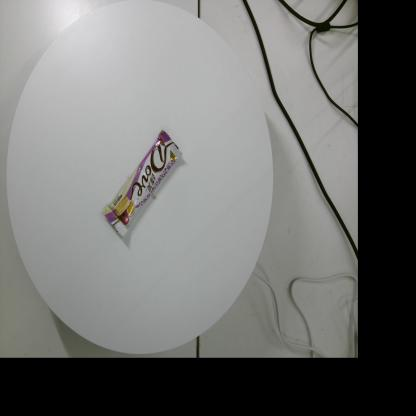Chocolate: (102, 130, 183, 237)
